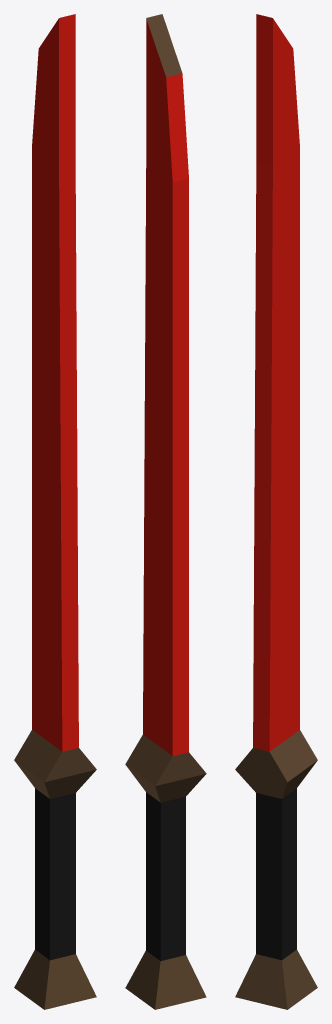
The model's file is SWBOSS.fbx.
3 renders of one model, left to right at view 1: azimuth 30°, elevation 25°; view 2: azimuth 210°, elevation 25°; view 3: azimuth 330°, elevation 25°, orthographic.
Visible parts, largest first — view 1: Cube; view 2: Cube; view 3: Cube.
Boxes of the visible parts, x1=… form: Cube: x1=14, y1=14, x2=96, y2=1009; Cube: x1=125, y1=14, x2=206, y2=1009; Cube: x1=235, y1=14, x2=317, y2=1009.
Bounding box in the file's own units: 33.32 × 597 × 33.32.
